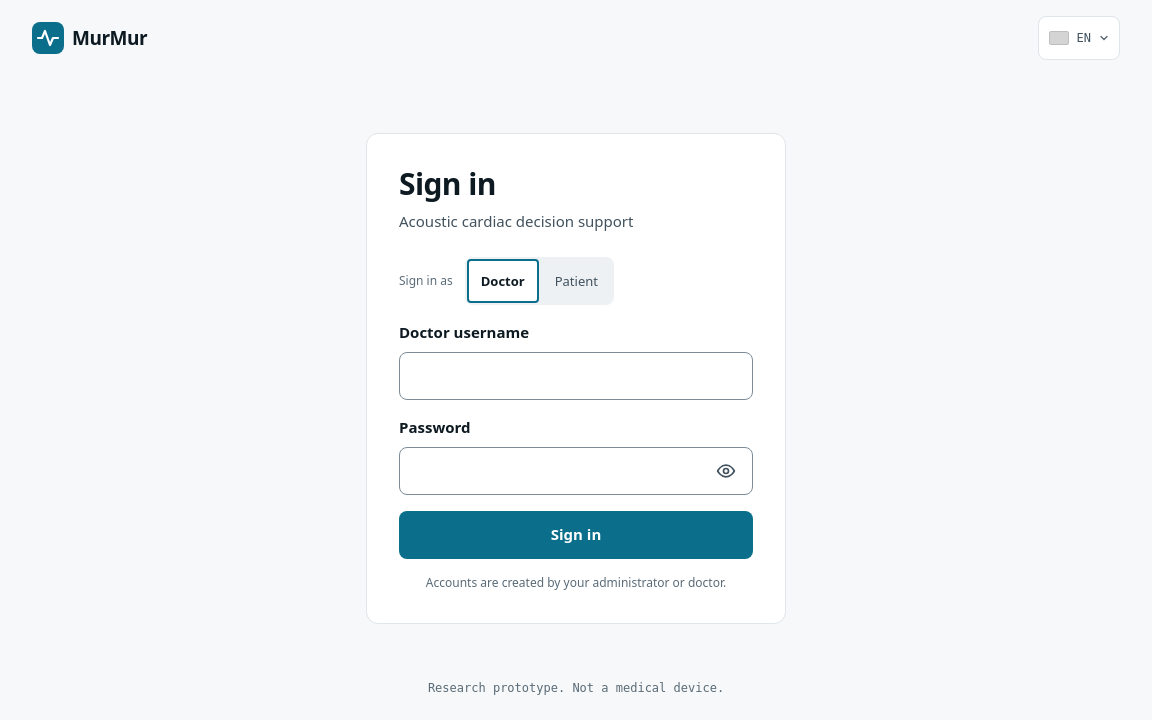
empty fields: errors appear next to them and focus moves to the first one; nothing is sent
Click the button "Sign in" at (576, 534), box [399, 510, 753, 558]
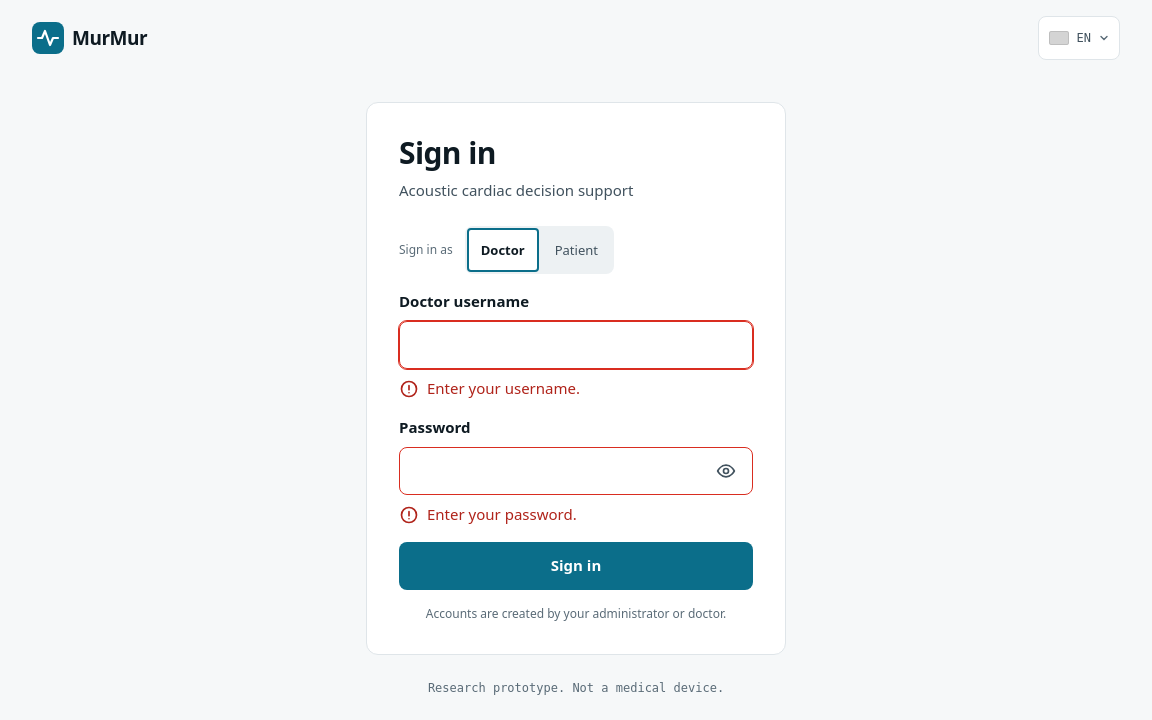
Now the text "Enter your username." is shown, box [427, 376, 580, 400]
Now the text "Enter your password." is shown, box [427, 502, 577, 526]
